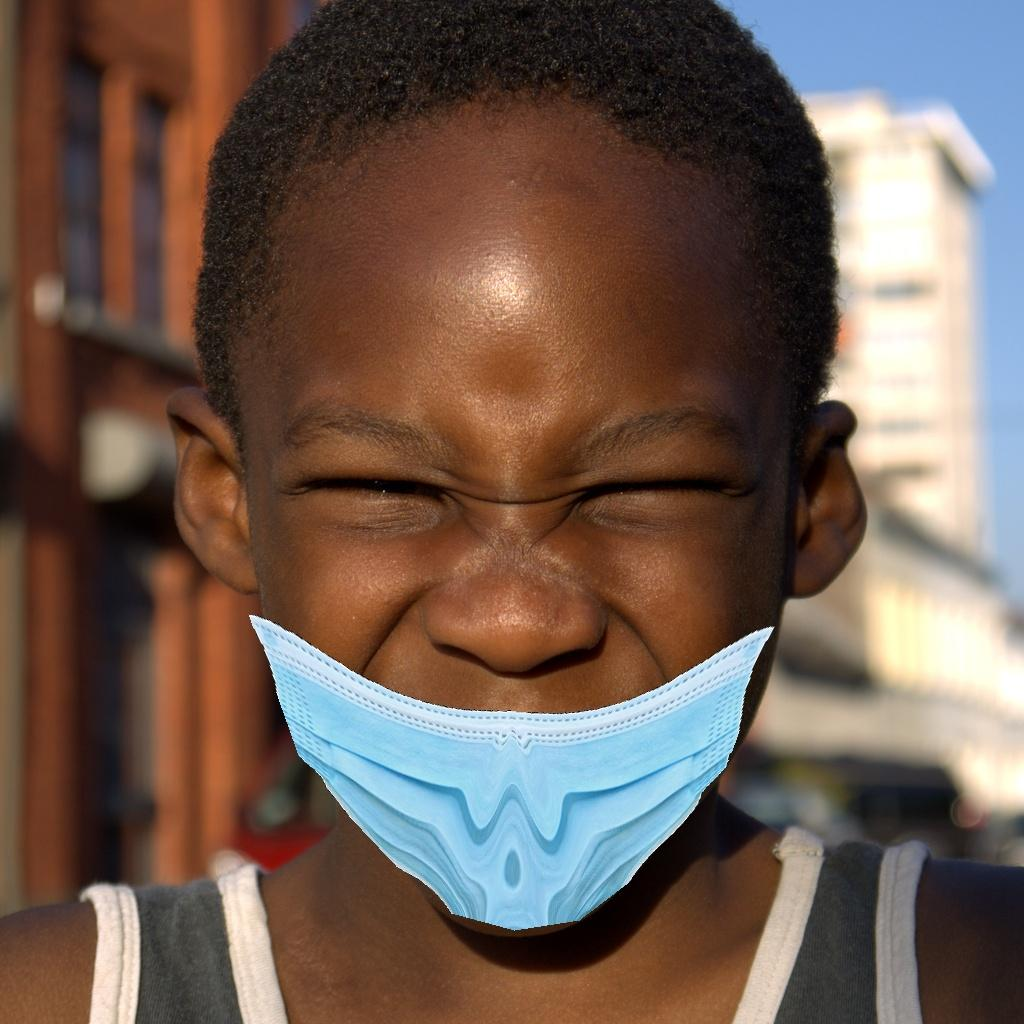Máscara Incorreta: (210, 245, 842, 908)
